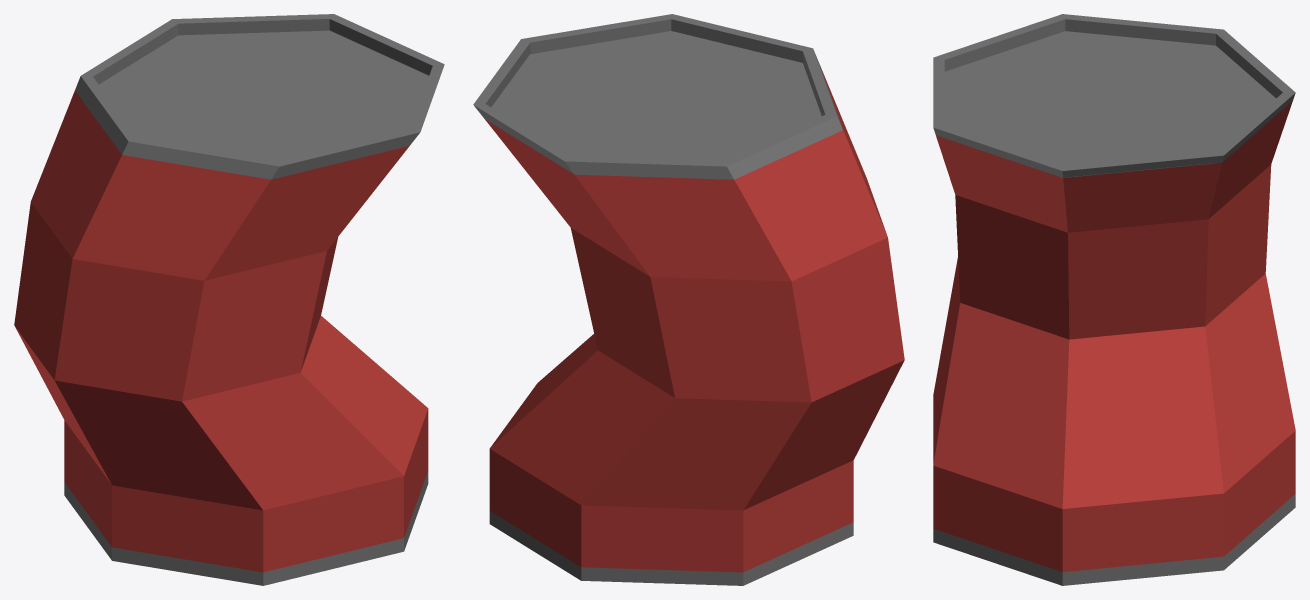
File: RedCan002.fbx
3 views of the same model, side by side, from view 1: azimuth 30°, elevation 25°; view 2: azimuth 150°, elevation 25°; view 3: azimuth 270°, elevation 25° (orthographic).
Visible parts, largest first — view 1: CanRed002; view 2: CanRed002; view 3: CanRed002.
Part boxes in pixels (<box>): CanRed002: <box>14,14,444,585</box>; CanRed002: <box>473,14,904,585</box>; CanRed002: <box>933,14,1295,585</box>.
Size of the model in its own units: 81.72 by 83.83 by 65.11.
